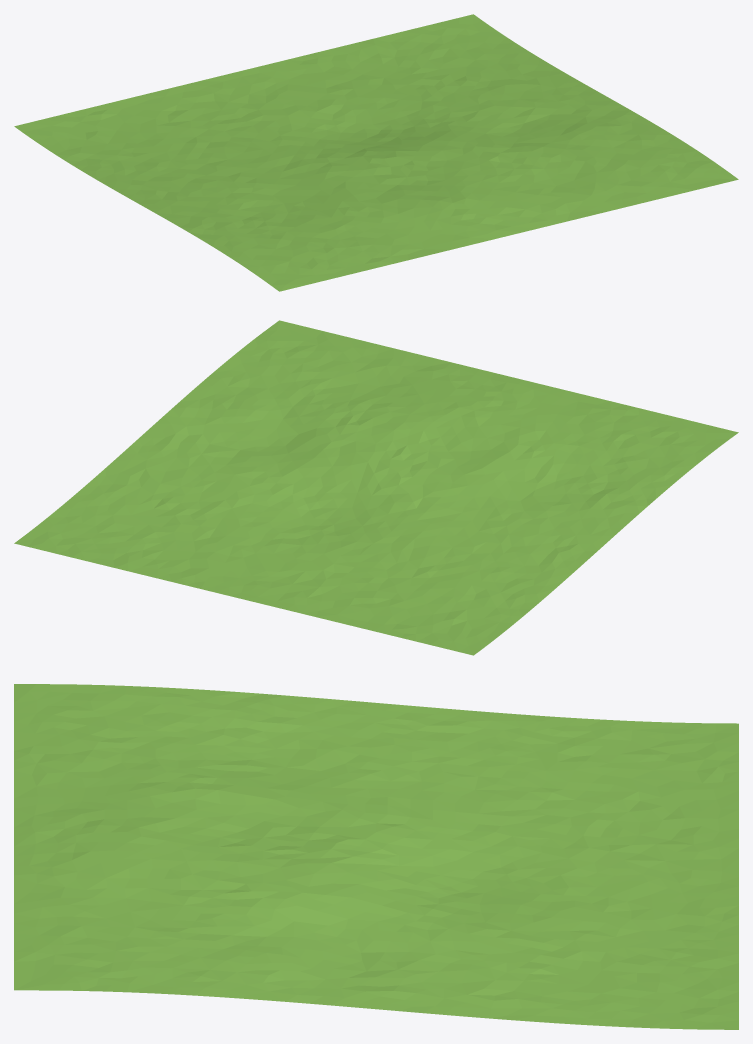
File: MT_River_End_L_d_02_LOD.fbx
3 renders of one model, top to bottom at view 1: azimuth 30°, elevation 25°; view 2: azimuth 150°, elevation 25°; view 3: azimuth 270°, elevation 25°, orthographic. The views are drawn at different scales.
Visible parts, largest first — view 1: MT_River_End_L_d_02_LOD0; view 2: MT_River_End_L_d_02_LOD0; view 3: MT_River_End_L_d_02_LOD0.
Boxes of the visible parts, x1=… form: MT_River_End_L_d_02_LOD0: x1=14, y1=14, x2=738, y2=291; MT_River_End_L_d_02_LOD0: x1=14, y1=320, x2=738, y2=655; MT_River_End_L_d_02_LOD0: x1=14, y1=684, x2=738, y2=1029.
Size of what is drawn, in the model's own units: 10000 by 652 by 10000.
